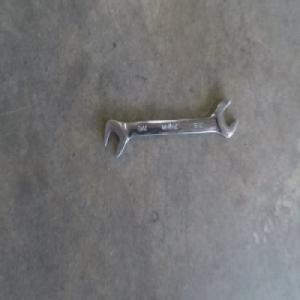Wrench: (104, 96, 238, 155)
